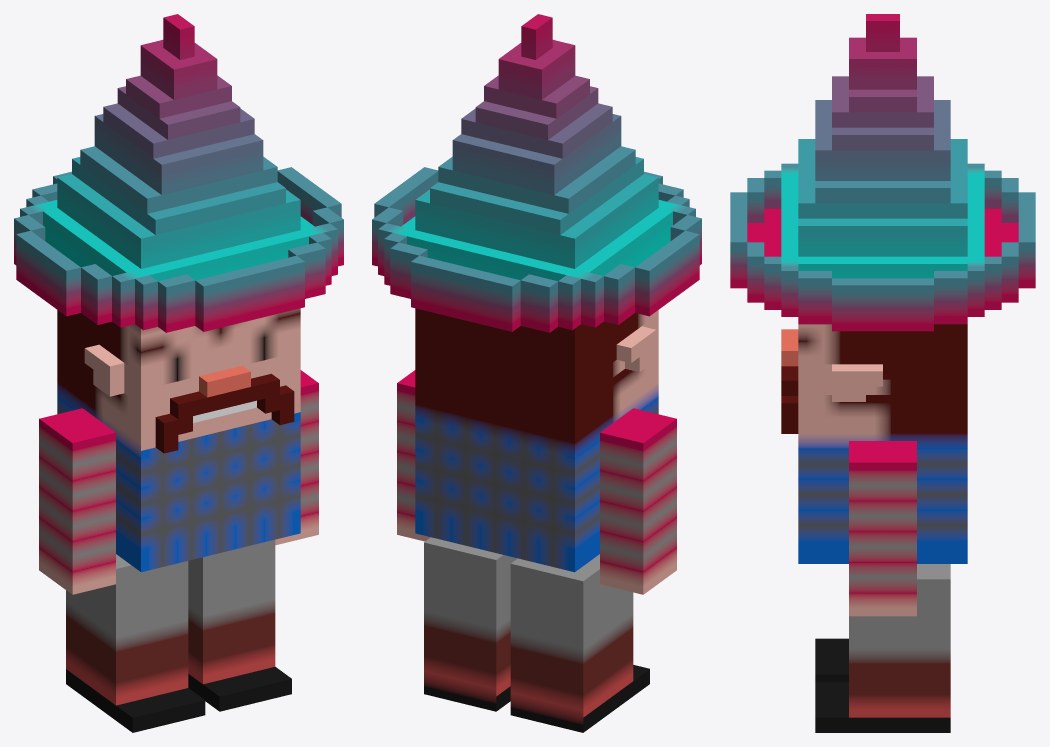
The model's file is Judy.fbx.
3 views of the same model, side by side, from view 1: azimuth 30°, elevation 25°; view 2: azimuth 150°, elevation 25°; view 3: azimuth 270°, elevation 25° (orthographic).
Parts seen in each view (by area): view 1: Main, RightFoot, LeftFoot, RightHand, LeftHand; view 2: Main, RightFoot, LeftFoot, RightHand, LeftHand; view 3: Main, LeftFoot, LeftHand, RightFoot.
Boxes of the visible parts, left/top/right/bottom form: Main: left=14, top=14, right=343, bottom=572; RightFoot: left=66, top=554, right=205, bottom=732; LeftFoot: left=188, top=539, right=291, bottom=711; RightHand: left=39, top=408, right=115, bottom=594; LeftHand: left=275, top=370, right=318, bottom=545; Main: left=372, top=14, right=701, bottom=572; RightFoot: left=510, top=554, right=649, bottom=732; LeftFoot: left=424, top=537, right=517, bottom=711; RightHand: left=600, top=408, right=676, bottom=594; LeftHand: left=397, top=370, right=430, bottom=541; Main: left=730, top=14, right=1035, bottom=563; LeftFoot: left=815, top=564, right=950, bottom=732; LeftHand: left=849, top=441, right=916, bottom=616; RightFoot: left=815, top=638, right=848, bottom=681.
Size of the model in its own units: 19 by 44 by 18.
1 material, 1 textured.
